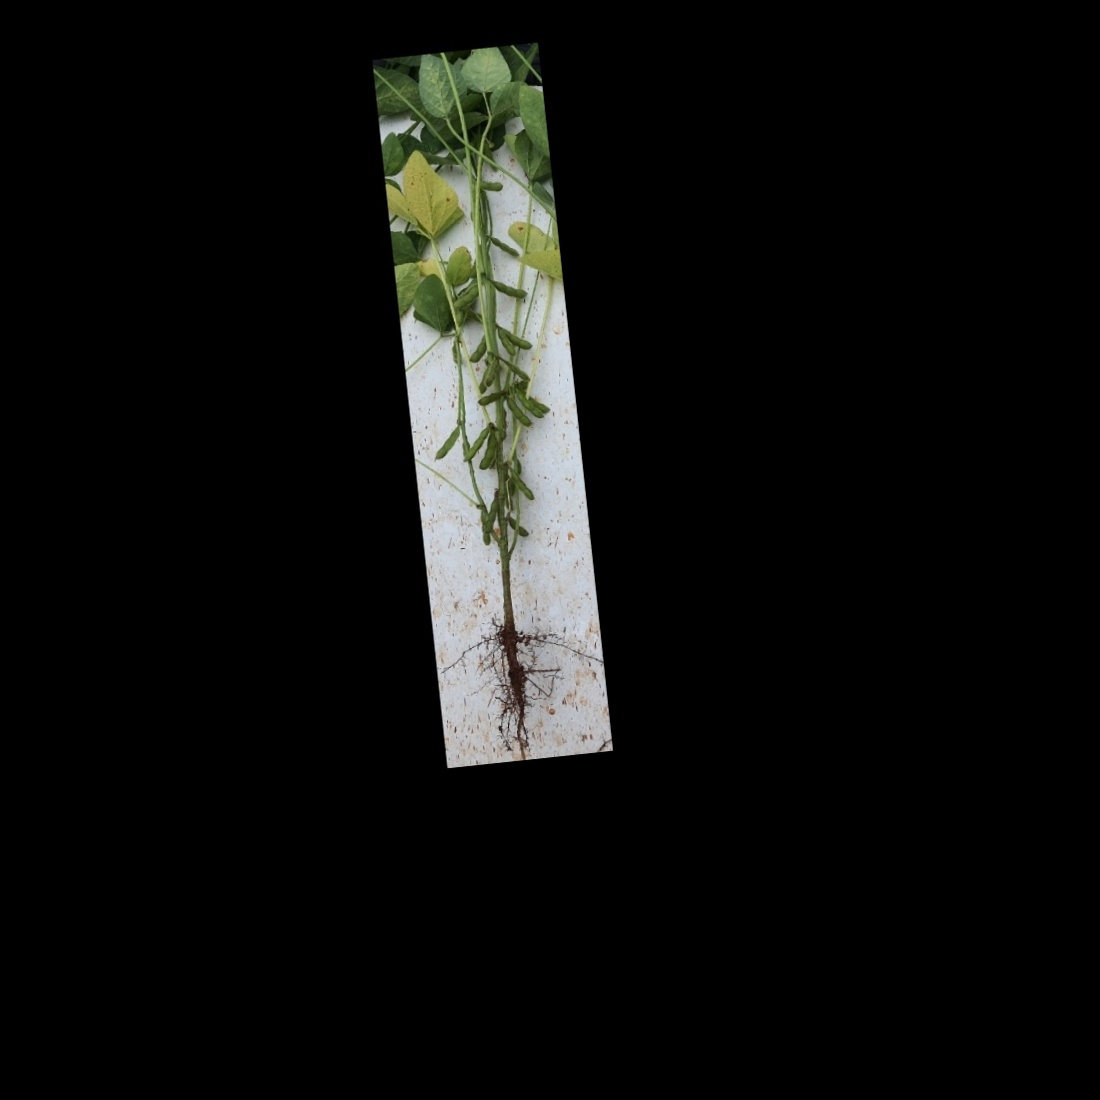pod: (484, 271, 530, 304), (482, 227, 524, 261), (430, 421, 464, 461), (455, 424, 490, 462), (508, 463, 536, 504), (503, 393, 532, 431), (496, 355, 532, 384), (476, 430, 502, 470), (464, 334, 492, 364), (507, 512, 531, 541), (474, 174, 505, 195), (475, 388, 506, 407), (478, 508, 492, 548)
soy: (391, 74, 592, 734)
